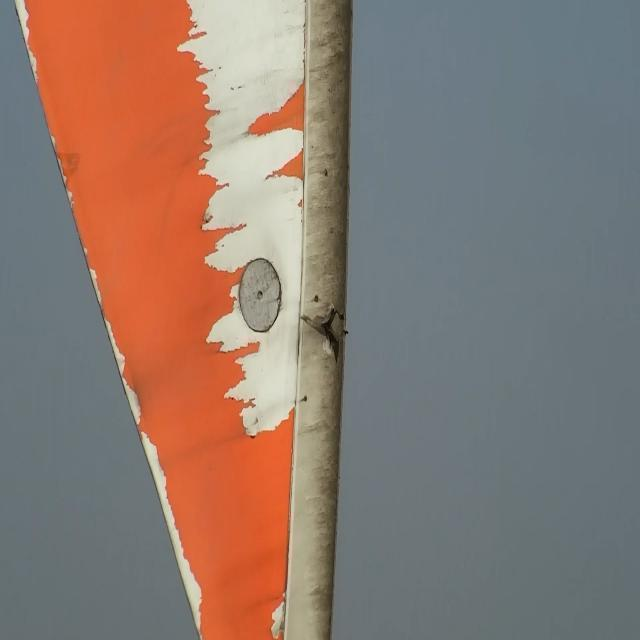PU-tape: (12, 0, 205, 640), (162, 0, 308, 460), (266, 574, 289, 640)
